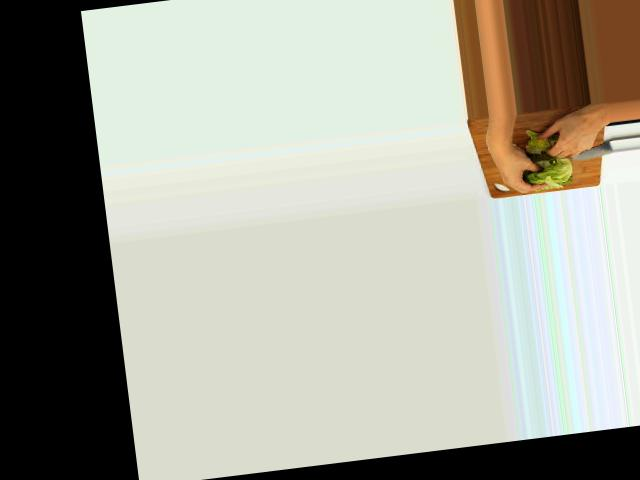lettuce: (523, 152, 575, 190)
